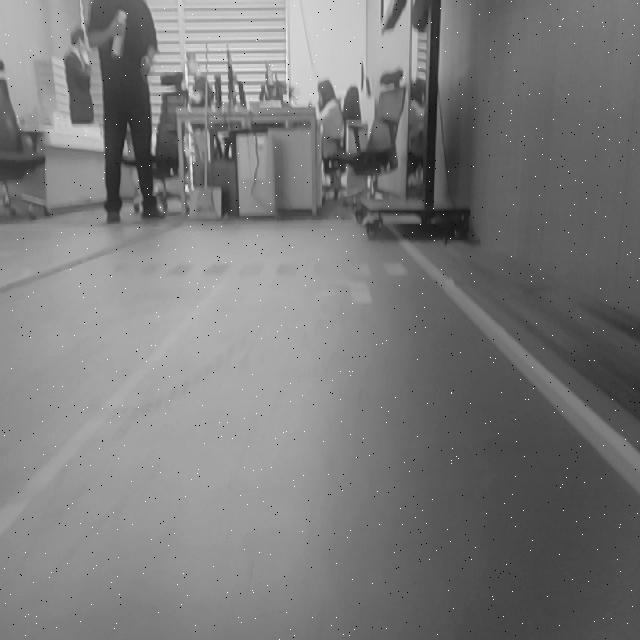left_lane: (0, 268, 233, 537)
right_lane: (392, 227, 640, 495)
